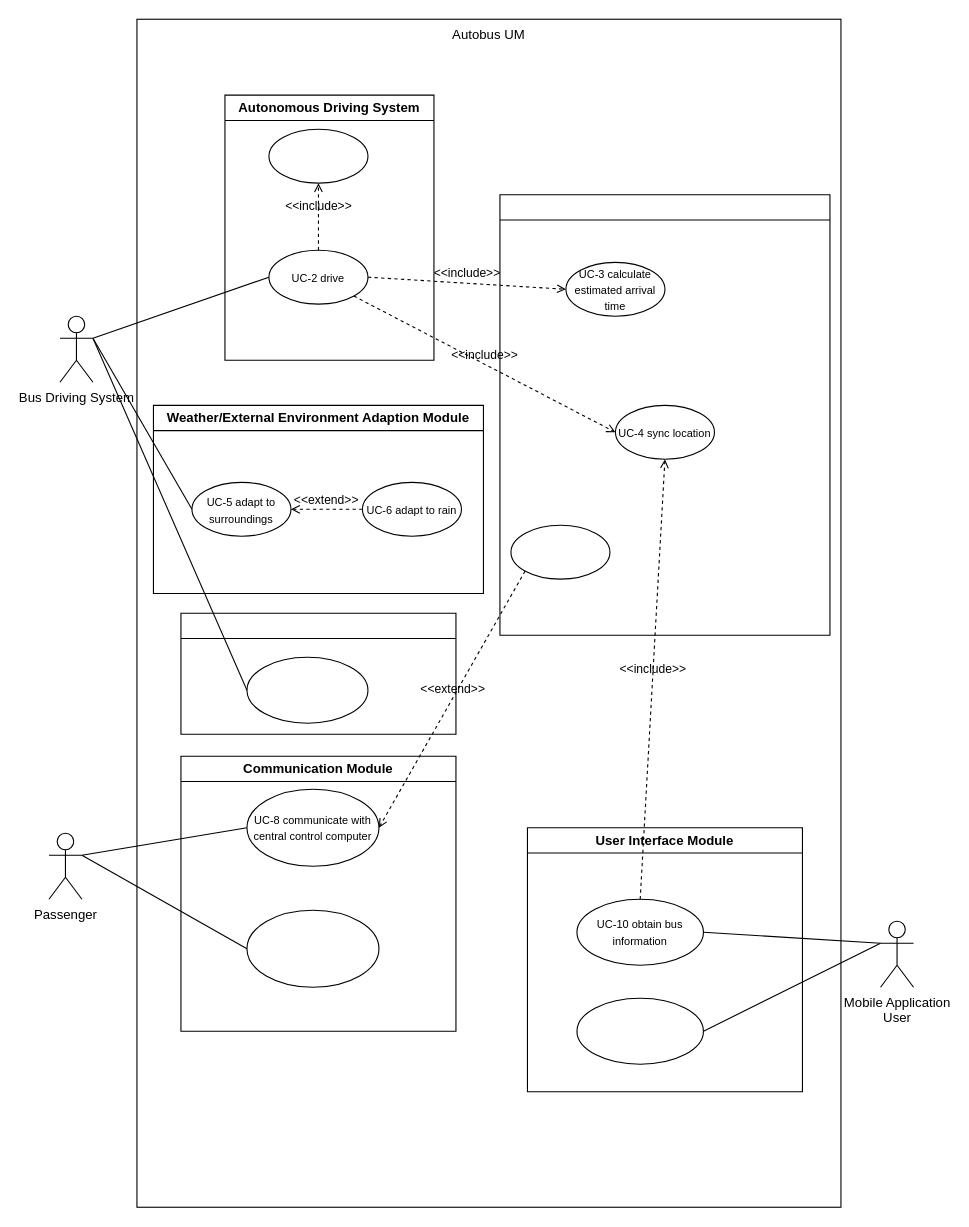
Image size: 969x1227. Some labels were removed from this diagram. Here are the shapes that lost their labels. From the top down, the box of each, then its label:
(268, 128, 368, 183): UC-1 calculate path
(499, 194, 830, 635): Centralized Control System
(510, 524, 610, 579): UC-12 Emergency Override
(246, 656, 368, 723): UC-7 adapt to internal environment
(180, 612, 456, 734): Internal Environment Adaption Module
(246, 909, 379, 987): UC-9 make emergency call
(576, 997, 703, 1064): UC-11 send feedback
